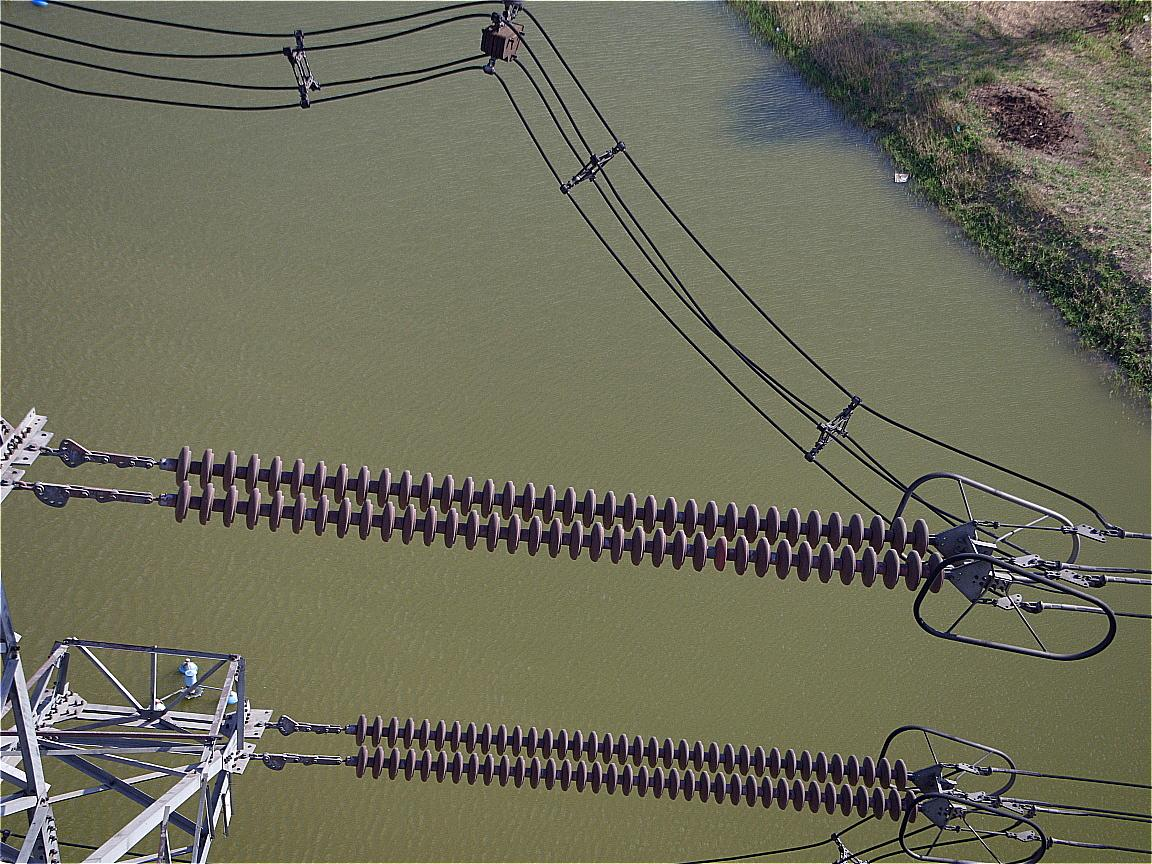insultor1: (176, 445, 945, 593), (356, 712, 919, 823)
